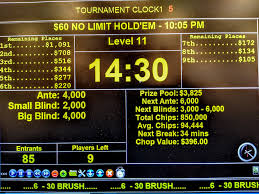PlayersLeft: (57, 142, 127, 164)
Remaining: (180, 33, 259, 89), (1, 36, 75, 90)
TournamentClock: (1, 21, 258, 164)
